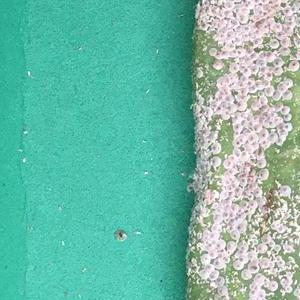Femea: (210, 73, 239, 114), (249, 96, 279, 129), (233, 182, 264, 213), (196, 228, 225, 248), (199, 248, 227, 268), (233, 159, 255, 181), (221, 191, 232, 222), (228, 251, 246, 268), (233, 214, 248, 234), (221, 169, 232, 190), (289, 60, 299, 70), (209, 157, 219, 167), (248, 289, 258, 299), (268, 38, 278, 47), (222, 159, 232, 168), (268, 132, 276, 142), (229, 231, 237, 241), (259, 169, 267, 179), (211, 143, 218, 154), (265, 85, 272, 96), (223, 1, 232, 9), (280, 46, 289, 54), (248, 264, 257, 272), (257, 160, 266, 168), (281, 186, 289, 195), (269, 280, 276, 290), (281, 105, 289, 113), (274, 138, 283, 145), (229, 63, 236, 72), (284, 78, 291, 87), (283, 6, 289, 16), (241, 150, 247, 160), (239, 61, 246, 69), (232, 149, 239, 157), (273, 67, 280, 75), (284, 16, 295, 21), (260, 130, 266, 139), (282, 90, 291, 96), (247, 135, 254, 142), (243, 67, 250, 74), (235, 48, 242, 55), (277, 83, 284, 90), (284, 113, 291, 120), (273, 59, 280, 66), (233, 123, 239, 131), (238, 75, 246, 81), (273, 91, 279, 99), (215, 277, 221, 285), (244, 0, 253, 5), (290, 5, 295, 14), (238, 136, 244, 143), (274, 23, 280, 30), (226, 32, 232, 39), (233, 138, 238, 146), (284, 124, 290, 130), (242, 2, 248, 8), (285, 27, 291, 33), (226, 225, 232, 231), (242, 26, 249, 31), (246, 79, 251, 86), (251, 0, 259, 4), (285, 22, 293, 26), (238, 82, 243, 88), (295, 5, 299, 12), (257, 91, 262, 96), (296, 17, 299, 25), (295, 0, 299, 4)
Macho: (280, 197, 299, 246), (249, 215, 272, 235)
